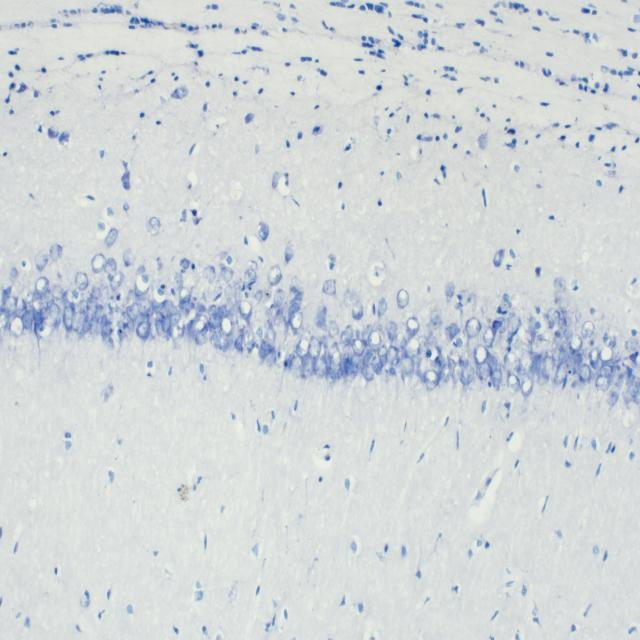neuron: (208, 304, 227, 328), (288, 353, 305, 378), (211, 330, 229, 352), (32, 291, 44, 323), (327, 342, 341, 369), (554, 360, 569, 385), (134, 274, 151, 296), (62, 288, 82, 306), (272, 314, 288, 336), (312, 354, 328, 376), (504, 352, 520, 374), (423, 369, 440, 389), (301, 354, 314, 380), (9, 316, 24, 338), (401, 357, 414, 382), (404, 338, 420, 358), (466, 317, 481, 338), (348, 355, 361, 379), (34, 249, 48, 271), (542, 356, 556, 378), (595, 374, 612, 392), (551, 348, 567, 367), (316, 305, 328, 330), (268, 265, 282, 286), (368, 330, 382, 351), (474, 344, 488, 365), (520, 375, 534, 396), (568, 334, 582, 355), (476, 362, 492, 380), (220, 314, 233, 336), (146, 217, 161, 236), (445, 322, 460, 341), (599, 345, 614, 364), (74, 270, 88, 290), (110, 271, 124, 291), (125, 301, 139, 321), (361, 324, 373, 347), (462, 363, 474, 386), (4, 296, 17, 317), (290, 310, 303, 331), (343, 290, 359, 307), (361, 363, 376, 381), (506, 374, 521, 392), (35, 276, 49, 295), (238, 300, 252, 319), (63, 306, 74, 330), (264, 325, 276, 347), (309, 336, 321, 358), (452, 362, 464, 384), (49, 302, 62, 322), (243, 328, 256, 348), (259, 341, 272, 361), (296, 338, 309, 358), (34, 322, 50, 338), (92, 254, 106, 272), (104, 228, 118, 246), (136, 321, 150, 339), (137, 296, 151, 314), (385, 346, 399, 364), (507, 316, 521, 334), (372, 356, 384, 376), (385, 322, 397, 342), (491, 368, 503, 388), (444, 280, 456, 300), (579, 364, 591, 384), (624, 337, 640, 352), (100, 321, 114, 338), (164, 300, 178, 317), (406, 317, 420, 334), (428, 314, 442, 331), (581, 320, 594, 338), (258, 222, 270, 241), (493, 249, 505, 268), (168, 312, 182, 328), (322, 279, 336, 295), (546, 306, 560, 322), (195, 327, 208, 344), (234, 334, 247, 351), (22, 310, 32, 332), (42, 288, 52, 310), (282, 302, 292, 324), (589, 347, 599, 369), (124, 248, 136, 266), (154, 319, 166, 337), (291, 275, 303, 293), (325, 367, 337, 385), (328, 320, 340, 338), (352, 338, 364, 356), (361, 348, 373, 366), (397, 290, 409, 308), (483, 326, 495, 344), (243, 269, 257, 284), (440, 363, 450, 384), (629, 376, 639, 397), (51, 243, 62, 262), (91, 304, 102, 323), (22, 285, 35, 301), (51, 284, 64, 300), (203, 266, 216, 282), (0, 310, 9, 333), (168, 324, 180, 341), (562, 324, 574, 341), (554, 276, 566, 293), (607, 389, 619, 406), (274, 288, 284, 308), (148, 316, 157, 338), (353, 302, 364, 320), (378, 297, 387, 319), (459, 350, 470, 368), (136, 312, 150, 326), (341, 330, 354, 345), (105, 258, 117, 274), (179, 288, 191, 304), (221, 267, 233, 283), (72, 310, 81, 331), (161, 311, 170, 332), (86, 294, 97, 311), (288, 303, 302, 316), (600, 364, 614, 377), (81, 314, 90, 334), (197, 294, 207, 312), (285, 244, 294, 264), (343, 352, 350, 377), (2, 286, 11, 305), (77, 300, 89, 314), (101, 314, 107, 342), (127, 318, 134, 342), (42, 315, 57, 326), (492, 319, 503, 334), (224, 284, 233, 302), (90, 316, 98, 336), (544, 313, 554, 329), (174, 271, 182, 290), (487, 352, 497, 367), (557, 316, 567, 331), (235, 285, 242, 306), (573, 352, 583, 366), (91, 285, 100, 299), (244, 261, 258, 270), (180, 258, 190, 270), (254, 288, 264, 300), (377, 346, 387, 357), (208, 305, 217, 317), (561, 341, 570, 353), (196, 314, 207, 322), (391, 358, 399, 368), (610, 335, 616, 348), (256, 326, 262, 338), (337, 368, 342, 380)
